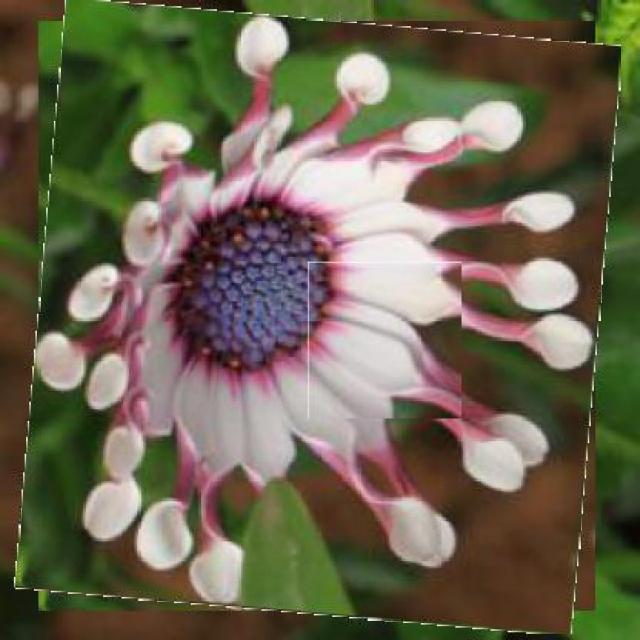Flower: (26, 8, 609, 624), (308, 262, 463, 420)
